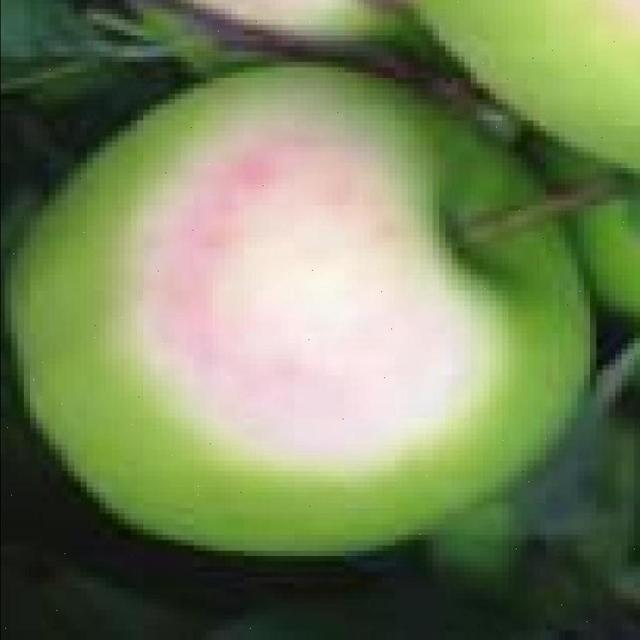Sunscald Fruit: (84, 71, 332, 312)
